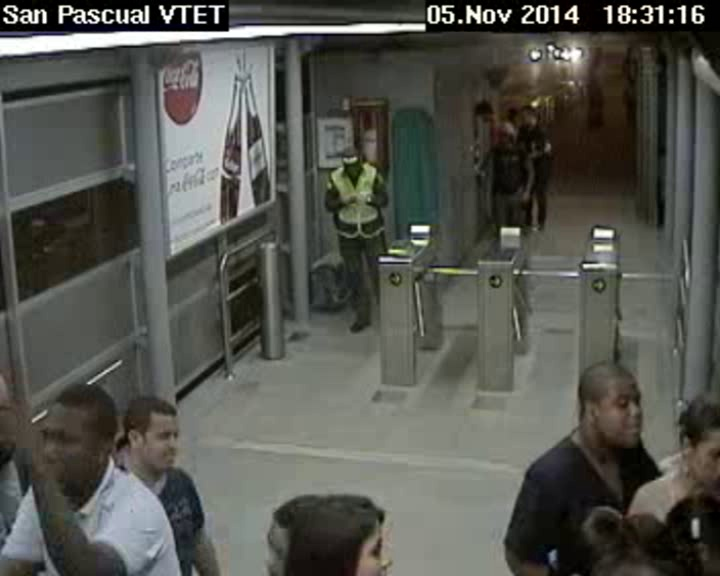person: (277, 486, 403, 576), (37, 379, 117, 497), (239, 481, 332, 576), (575, 349, 647, 453), (120, 387, 175, 473), (673, 388, 720, 487), (339, 144, 363, 178), (497, 124, 514, 145), (521, 107, 538, 125)
